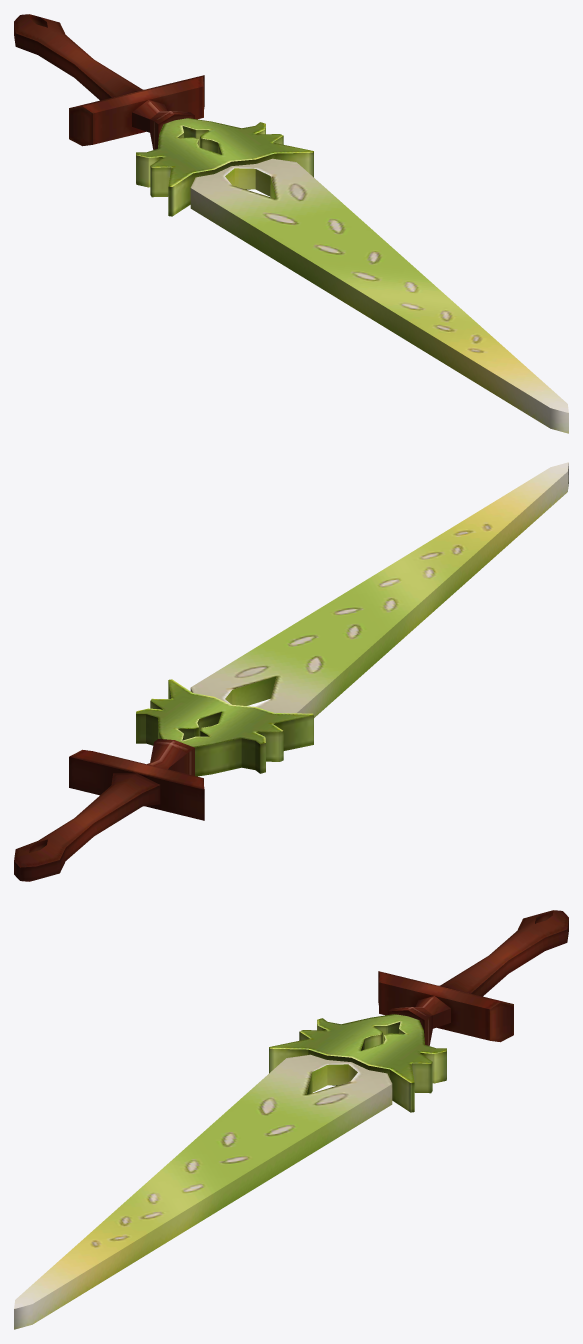
File: sword3013.fbx
3 views of the same model, one above another, from view 1: azimuth 30°, elevation 25°; view 2: azimuth 150°, elevation 25°; view 3: azimuth 330°, elevation 25° (orthographic).
Parts seen in each view (by area): view 1: sword3013; view 2: sword3013; view 3: sword3013.
Part boxes in pixels (x1=…): sword3013: x1=14, y1=14, x2=568, y2=433; sword3013: x1=14, y1=462, x2=568, y2=881; sword3013: x1=14, y1=910, x2=568, y2=1329.
Bounding box in the file's own units: 0.1432 × 0.0392 × 0.9357.
